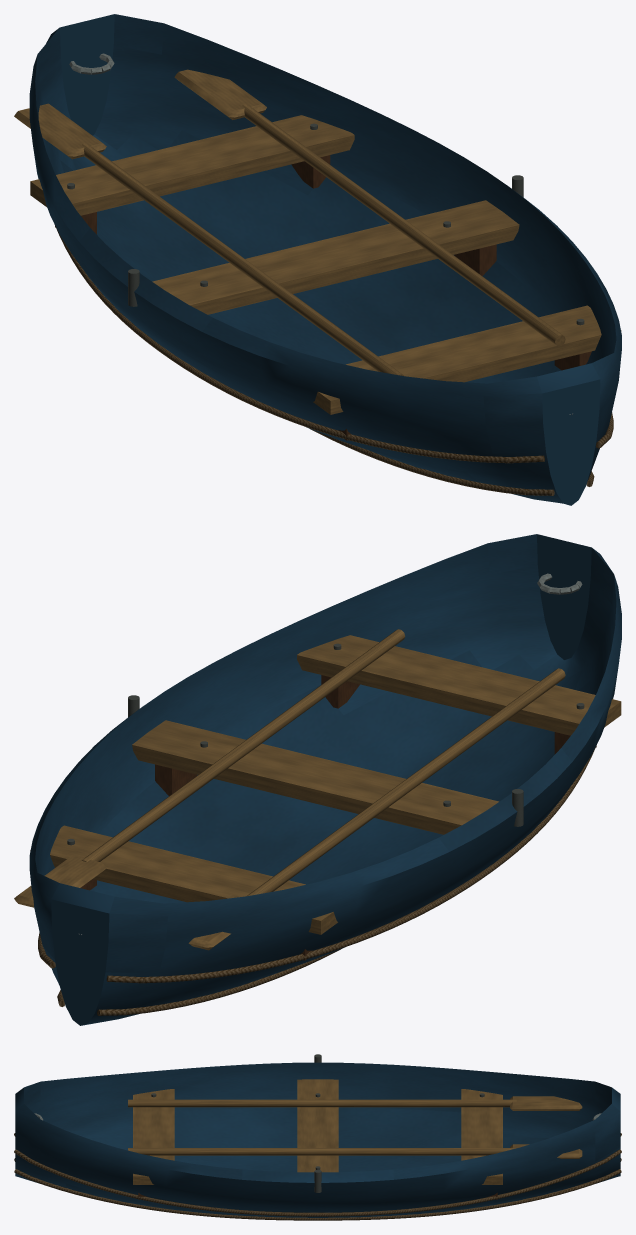
The model's file is level_camp_rowboat_refined.glb.
3 renders of one model, top to bottom at view 1: azimuth 30°, elevation 25°; view 2: azimuth 150°, elevation 25°; view 3: azimuth 270°, elevation 25°, orthographic. The views are drawn at different scales.
Visible parts, largest first — view 1: level_camp_rowboat_refined; view 2: level_camp_rowboat_refined; view 3: level_camp_rowboat_refined.
Boxes of the visible parts, left/top/right/bottom form: level_camp_rowboat_refined: left=14, top=14, right=621, bottom=505; level_camp_rowboat_refined: left=14, top=534, right=621, bottom=1025; level_camp_rowboat_refined: left=14, top=1054, right=621, bottom=1220.
Size of the model in its own units: 1.62 by 0.655 by 3.52.
6 materials, 6 textured.
